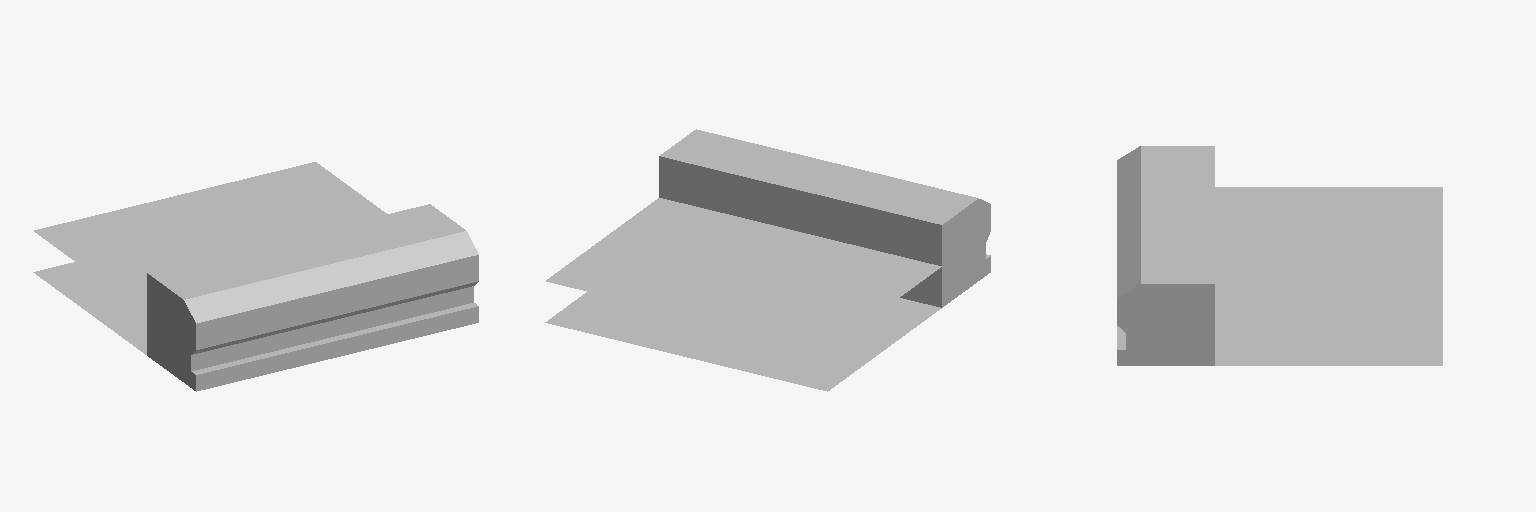
The model's file is fountain-edge.obj.
3 views of the same model, side by side, from view 1: azimuth 30°, elevation 25°; view 2: azimuth 150°, elevation 25°; view 3: azimuth 270°, elevation 25° (orthographic).
Parts seen in each view (by area): view 1: fountain-edge, (%ignore); view 2: fountain-edge, (%ignore); view 3: (%ignore), fountain-edge.
Part boxes in pixels (x1,y1,x2,y2): fountain-edge: (33,204,478,391); (%ignore): (34,162,386,313); fountain-edge: (545,129,990,391); (%ignore): (546,198,941,349); (%ignore): (1215,187,1442,324); fountain-edge: (1117,146,1442,365).
Bounding box in the file's own units: 1 × 0.28 × 1.